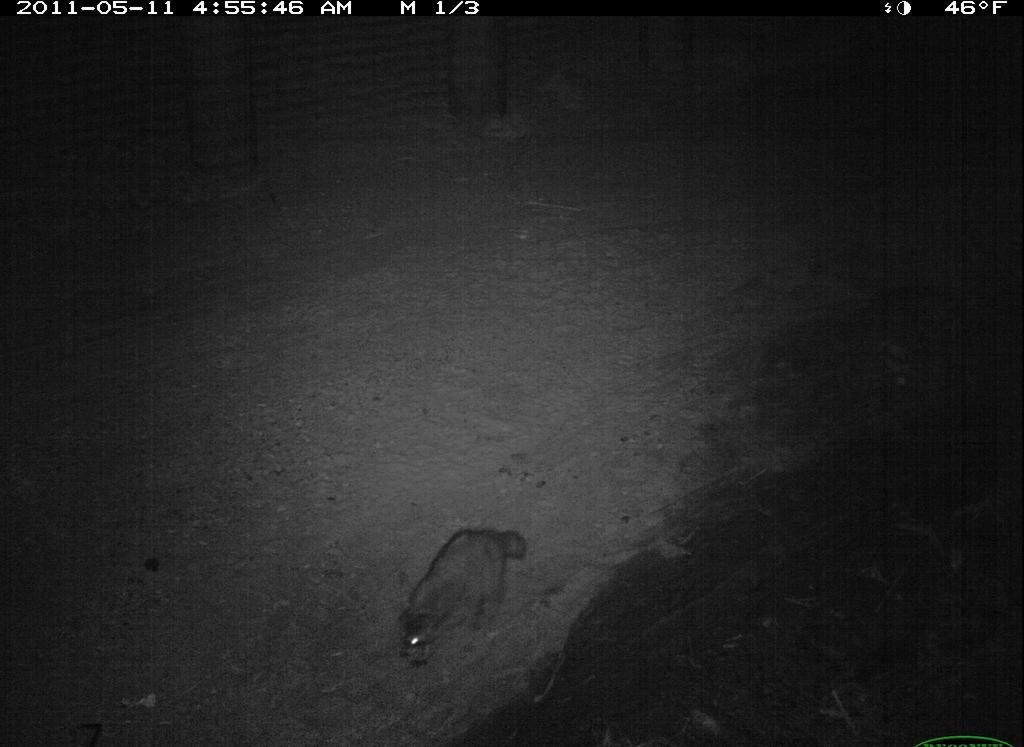raccoon: (376, 524, 542, 658)
